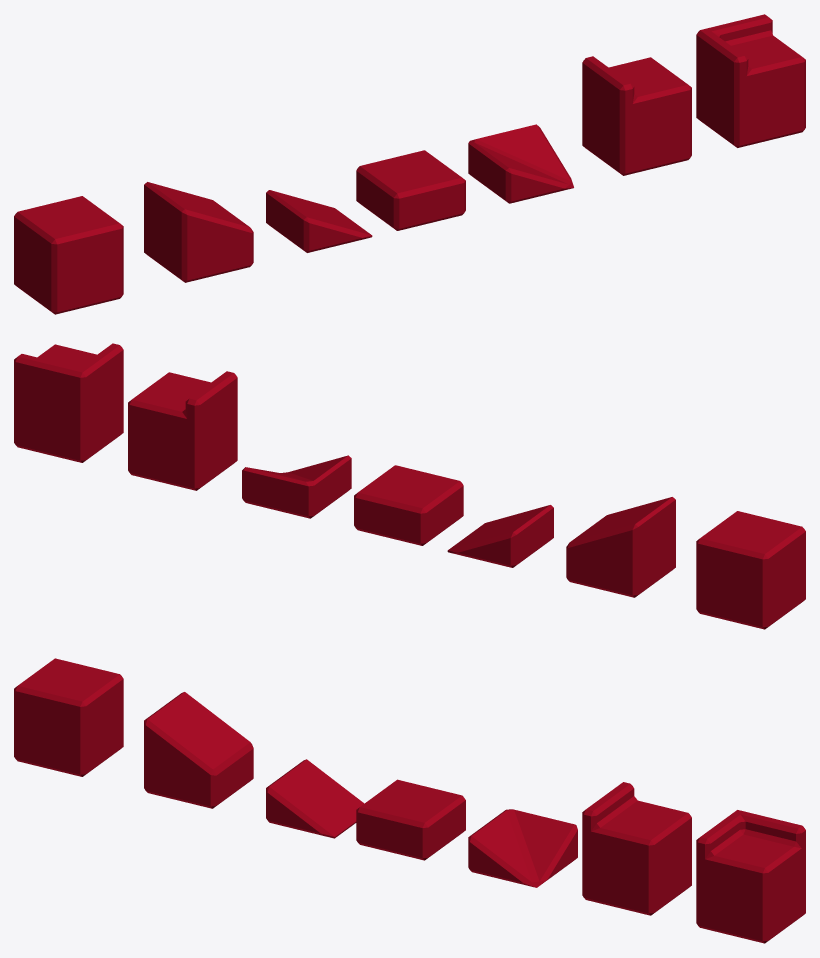
File: blocks.glb
3 views of the same model, one above another, from view 1: azimuth 30°, elevation 25°; view 2: azimuth 150°, elevation 25°; view 3: azimuth 330°, elevation 25° (orthographic).
Parts seen in each view (by area): view 1: BlockWallCorner, BlockWall, Block, RampTop, BlockShort, RampLowerCorner, RampBottom; view 2: BlockWallCorner, BlockWall, Block, RampTop, BlockShort, RampLowerCorner, RampBottom; view 3: BlockWallCorner, BlockWall, Block, RampTop, BlockShort, RampLowerCorner, RampBottom.
Part boxes in pixels (x1,y1,x2,y2): BlockWallCorner: (696, 14, 805, 147); BlockWall: (582, 56, 691, 175); Block: (14, 196, 123, 314); RampTop: (144, 182, 253, 282); BlockShort: (356, 150, 465, 230); RampLowerCorner: (468, 124, 573, 203); RampBottom: (266, 190, 372, 252); BlockWallCorner: (14, 343, 123, 462); BlockWall: (128, 371, 237, 490); Block: (696, 511, 805, 629); RampTop: (566, 497, 675, 597); BlockShort: (354, 465, 463, 545); RampLowerCorner: (242, 455, 351, 518); RampBottom: (447, 505, 553, 567); BlockWallCorner: (696, 810, 805, 943); BlockWall: (582, 782, 691, 915); Block: (14, 658, 123, 776); RampTop: (144, 692, 253, 808); BlockShort: (356, 779, 465, 860); RampLowerCorner: (468, 809, 577, 887); RampBottom: (266, 759, 364, 838).
Size of what is drawn, in the model's own units: 20.92 by 2.4 by 2.
